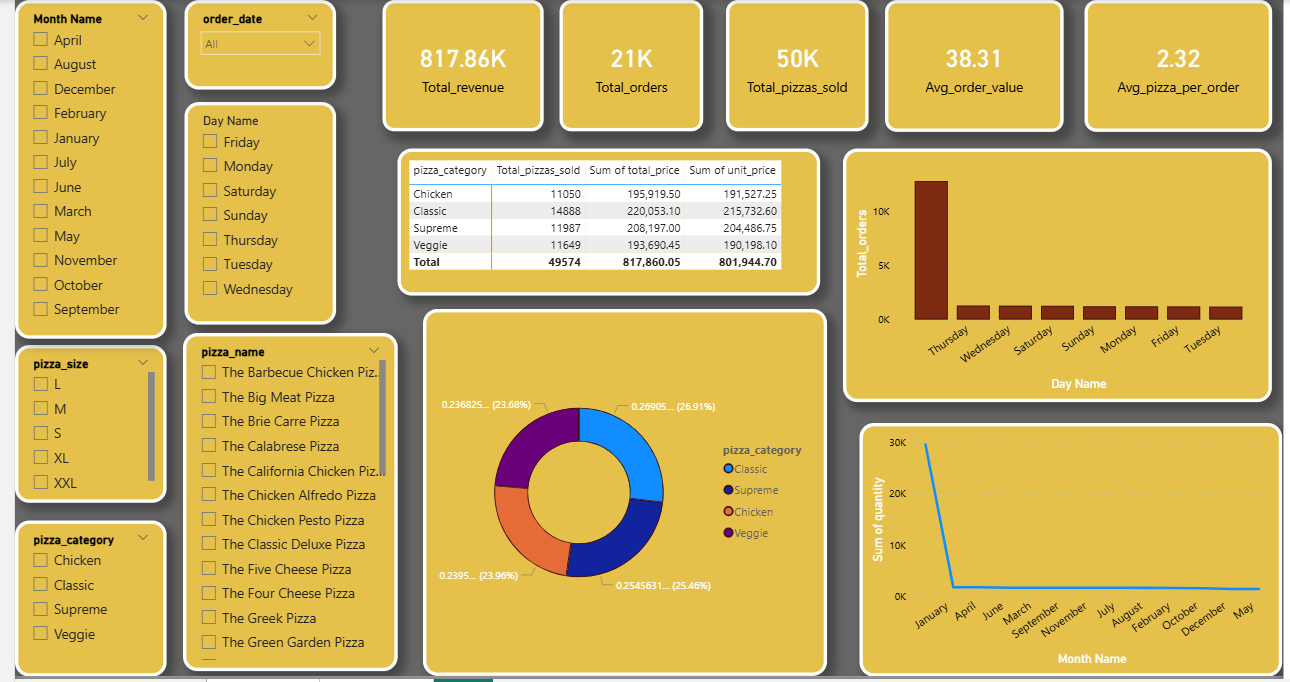

The page's visual inventory and layout, read from the dashboard file:
{"tool":"powerbi","page":{"name":"Page 1","canvas":[1500,800],"ordinal":0},"visuals":[{"type":"card","fields":{"Values":["pizza_sales.Avg_pizza_per_order"]},"box":[1265.2,0,221.8,156.2],"z":0},{"type":"card","fields":{"Values":["pizza_sales.Avg_order_value"]},"box":[1029.2,0,211.2,156.2],"z":1},{"type":"card","fields":{"Values":["pizza_sales.Total_pizzas_sold"]},"box":[840.3,0,168.4,155.6],"z":2},{"type":"card","fields":{"Values":["pizza_sales.Total_orders"]},"box":[644.4,0,170.3,155.6],"z":3},{"type":"card","fields":{"Values":["pizza_sales.Total_revenue"]},"box":[433.9,0,190.4,155.6],"z":4},{"type":"columnChart","fields":{"Y":["pizza_sales.Total_orders"],"Category":["pizza_sales.Day Name"]},"box":[979.5,175.8,507.1,300.2],"z":5},{"type":"pivotTable","fields":{"Rows":["pizza_sales.pizza_category"],"Values":["pizza_sales.Total_pizzas_sold","Sum(pizza_sales.total_price)","Sum(pizza_sales.unit_price)"]},"box":[452.2,175.8,499.8,173.9],"z":6},{"type":"donutChart","fields":{"Category":["pizza_sales.pizza_category"],"Y":["pizza_sales.% of Sales"]},"box":[482,366,478,434],"z":7},{"type":"slicer","fields":{"Values":["pizza_sales.Day Name"]},"box":[201.4,120.8,179.4,263.6],"z":8},{"type":"slicer","fields":{"Values":["pizza_sales.order_date"]},"box":[201.4,0,179.4,106.2],"z":9},{"type":"slicer","fields":{"Values":["pizza_sales.pizza_category"]},"box":[0,615.1,179.4,184.9],"z":10},{"type":"slicer","fields":{"Values":["pizza_sales.pizza_name"]},"box":[198,394,254,400],"z":11},{"type":"slicer","fields":{"Values":["pizza_sales.pizza_size"]},"box":[0,408.3,179.4,186.7],"z":12},{"type":"slicer","fields":{"Values":["pizza_sales.Month Name"]},"box":[0,0,179.6,400.7],"z":13},{"type":"lineChart","fields":{"Y":["Sum(pizza_sales.quantity)"],"Category":["pizza_sales.Month Name"]},"box":[999.6,499.8,499.8,300.2],"z":14}]}

Visuals, with their boxes in screenshot pixels (x1, y1, x2, y2), scaled from the page's 1500x800 canvas onto the 1290x682 screenshot:
card - pizza_sales.Avg_pizza_per_order: select_region(1088, 0, 1279, 133)
card - pizza_sales.Avg_order_value: select_region(885, 0, 1067, 133)
card - pizza_sales.Total_pizzas_sold: select_region(723, 0, 867, 133)
card - pizza_sales.Total_orders: select_region(554, 0, 701, 133)
card - pizza_sales.Total_revenue: select_region(373, 0, 537, 133)
columnChart - pizza_sales.Total_orders x pizza_sales.Day Name: select_region(842, 150, 1278, 406)
pivotTable - pizza_sales.pizza_category x pizza_sales.Total_pizzas_sold: select_region(389, 150, 819, 298)
donutChart - pizza_sales.pizza_category x pizza_sales.% of Sales: select_region(415, 312, 826, 681)
slicer - pizza_sales.Day Name: select_region(173, 103, 327, 328)
slicer - pizza_sales.order_date: select_region(173, 0, 327, 91)
slicer - pizza_sales.pizza_category: select_region(0, 524, 154, 681)
slicer - pizza_sales.pizza_name: select_region(170, 336, 389, 677)
slicer - pizza_sales.pizza_size: select_region(0, 348, 154, 507)
slicer - pizza_sales.Month Name: select_region(0, 0, 154, 342)
lineChart - Sum(pizza_sales.quantity) x pizza_sales.Month Name: select_region(860, 426, 1289, 681)
